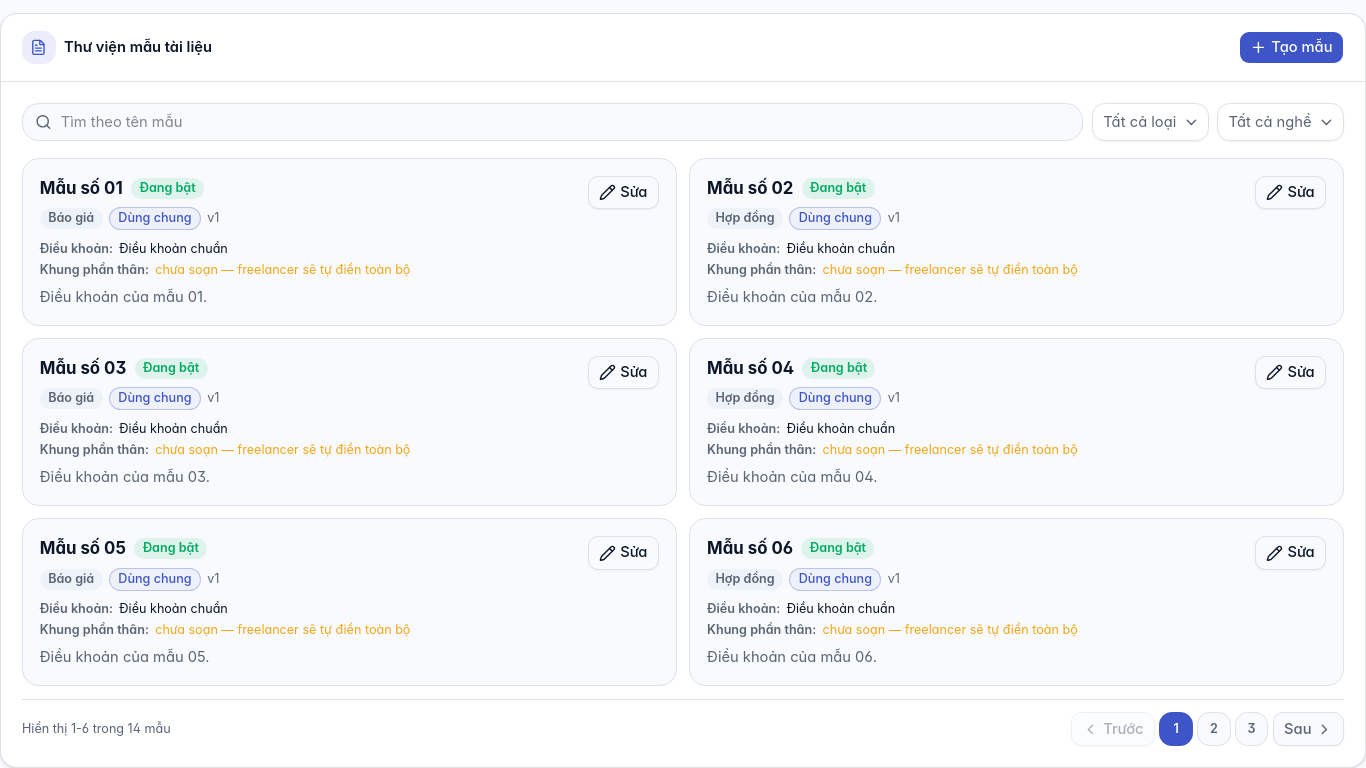
Scenario: <AdminTemplatesPage /> — phân trang › đổi bộ lọc loại tài liệu thì về trang 1
(page scrolled)
Click the button named "Trang 2" at (1214, 729), box [1197,712,1231,746]
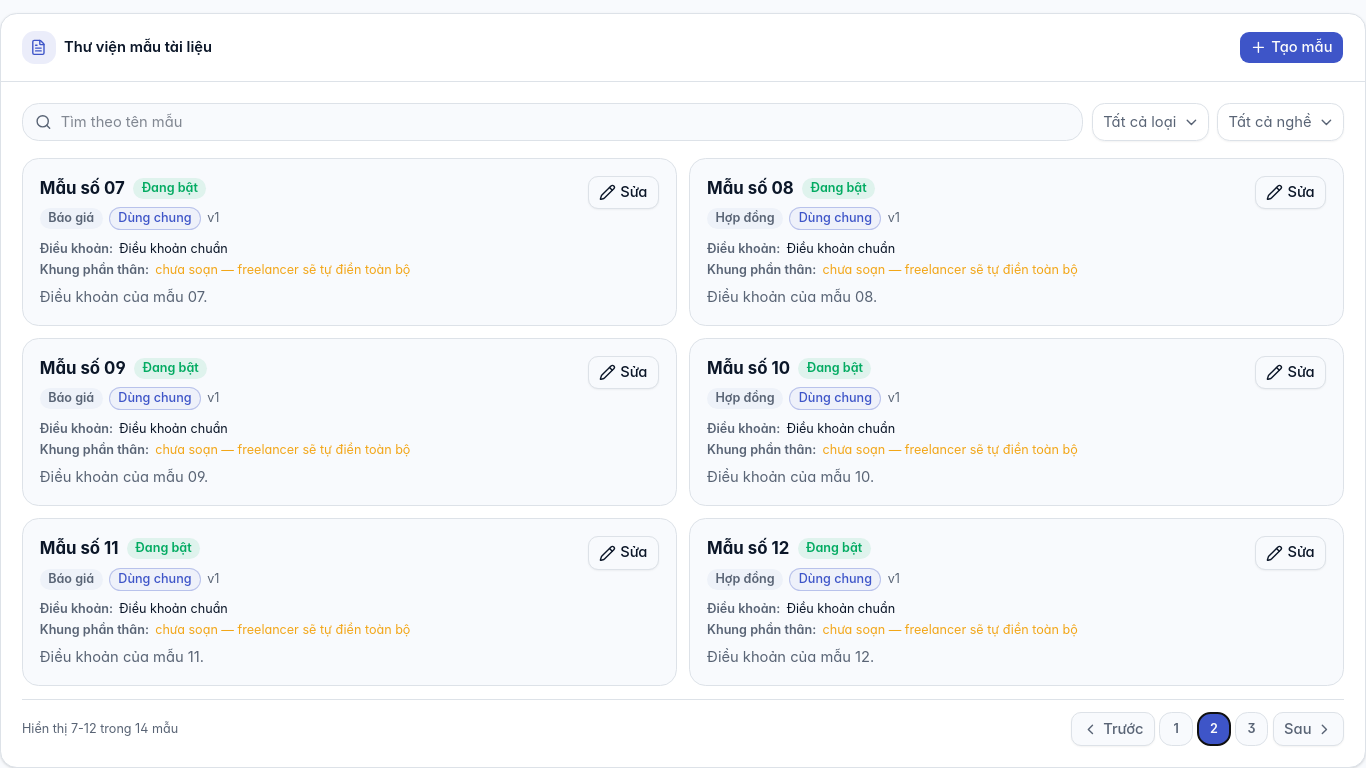
Expected: the text "Hiển thị 7-12 trong 14 mẫu" is shown, [22,721,178,738]
Click the dropdown named "Lọc loại tài liệu" at (1150, 122), box [1092,103,1209,141]
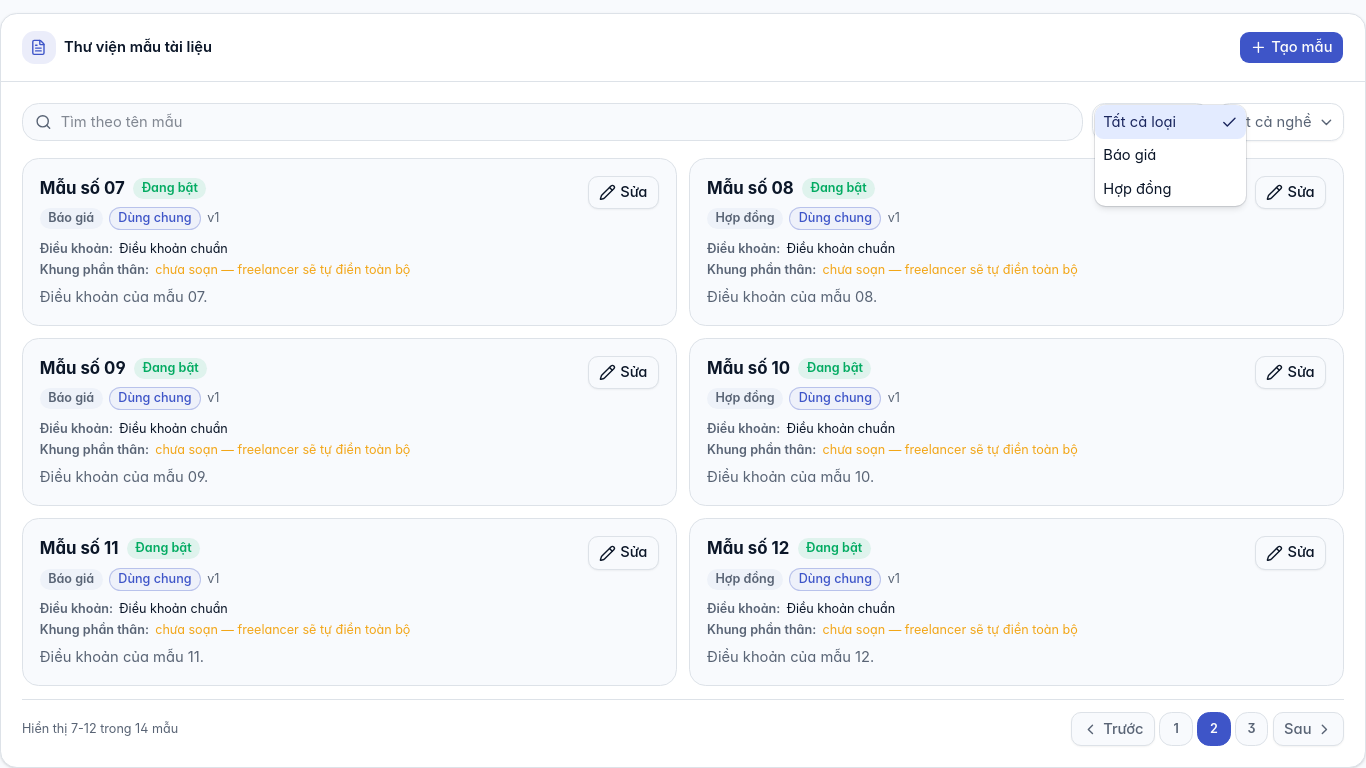
Click the option "Báo giá" at (1130, 155), box [1103,146,1156,164]
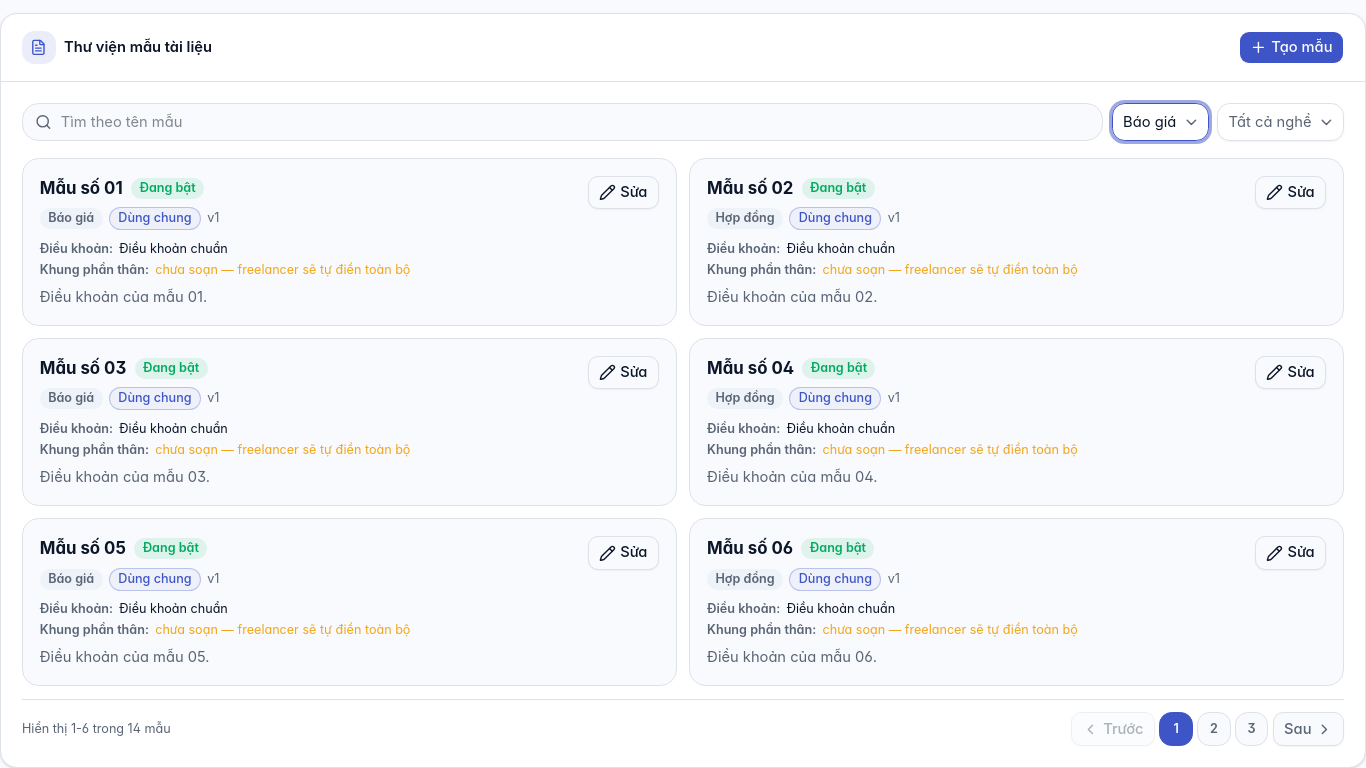
Expected: the text "Hiển thị 1-6 trong 14 mẫu" is shown, [22,721,171,738]
